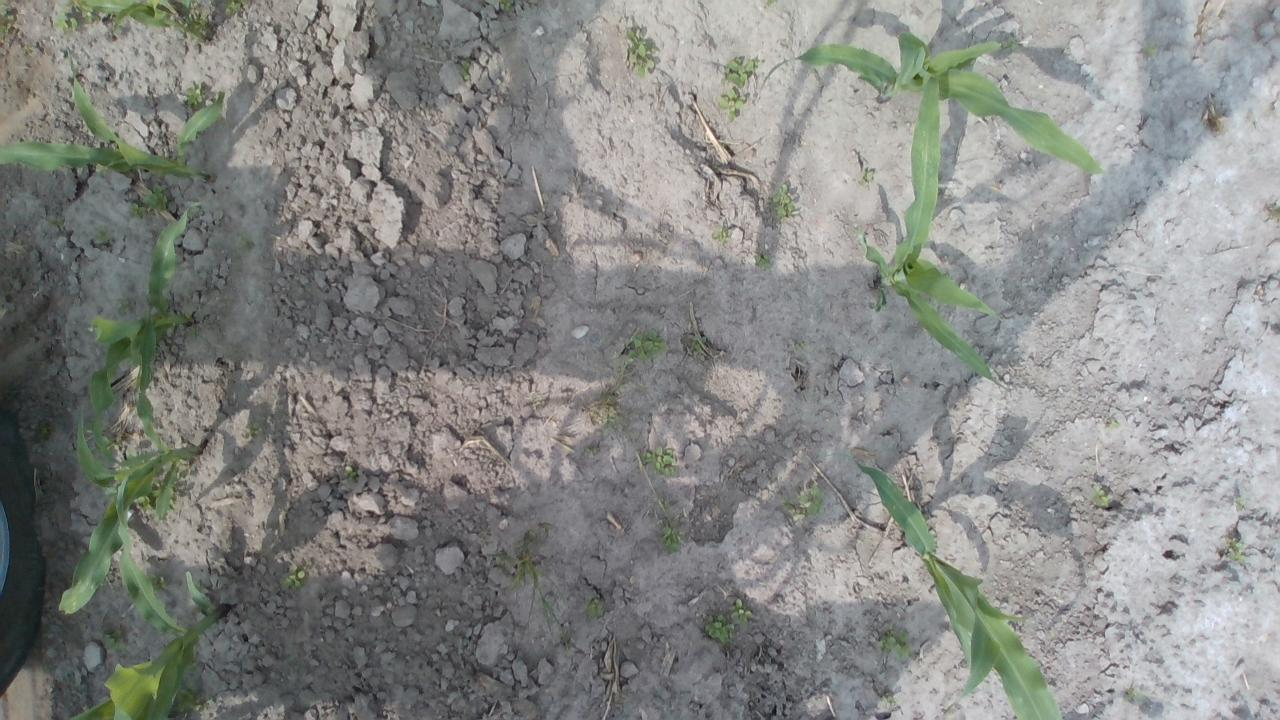Maize: (853, 456, 1070, 720), (760, 26, 1106, 176), (854, 68, 1010, 394), (56, 311, 206, 616), (58, 470, 230, 720), (86, 202, 208, 480), (0, 58, 224, 180), (80, 0, 210, 45)
Weeds: (494, 542, 538, 588), (623, 328, 672, 369), (624, 26, 656, 78), (781, 485, 824, 520), (876, 622, 914, 660), (721, 56, 760, 88), (638, 446, 676, 477), (702, 614, 735, 644), (771, 182, 797, 218), (720, 89, 746, 122), (94, 627, 124, 655), (175, 681, 202, 712), (728, 598, 754, 630), (278, 564, 306, 592), (182, 82, 208, 110), (142, 182, 168, 209), (54, 5, 78, 32), (1226, 537, 1248, 566), (1088, 483, 1113, 508), (662, 526, 684, 553), (582, 592, 604, 618), (131, 494, 156, 514), (598, 407, 622, 427), (0, 0, 14, 34), (149, 572, 170, 594), (238, 232, 256, 256), (1123, 687, 1143, 705), (194, 9, 209, 33), (222, 0, 245, 15), (48, 214, 66, 232), (712, 224, 729, 243), (128, 202, 146, 219), (116, 294, 130, 314), (754, 255, 770, 272), (148, 479, 162, 498), (342, 464, 358, 480), (167, 487, 177, 512), (689, 334, 702, 352), (95, 225, 108, 243), (1001, 39, 1020, 51), (82, 10, 97, 25), (95, 163, 111, 176), (1105, 418, 1121, 431), (861, 168, 874, 184), (880, 691, 894, 705), (499, 0, 513, 14), (461, 62, 471, 81), (658, 497, 672, 510), (252, 422, 263, 438), (1142, 46, 1158, 56), (1234, 495, 1244, 509), (540, 598, 551, 610), (178, 460, 187, 473), (190, 328, 200, 337)
